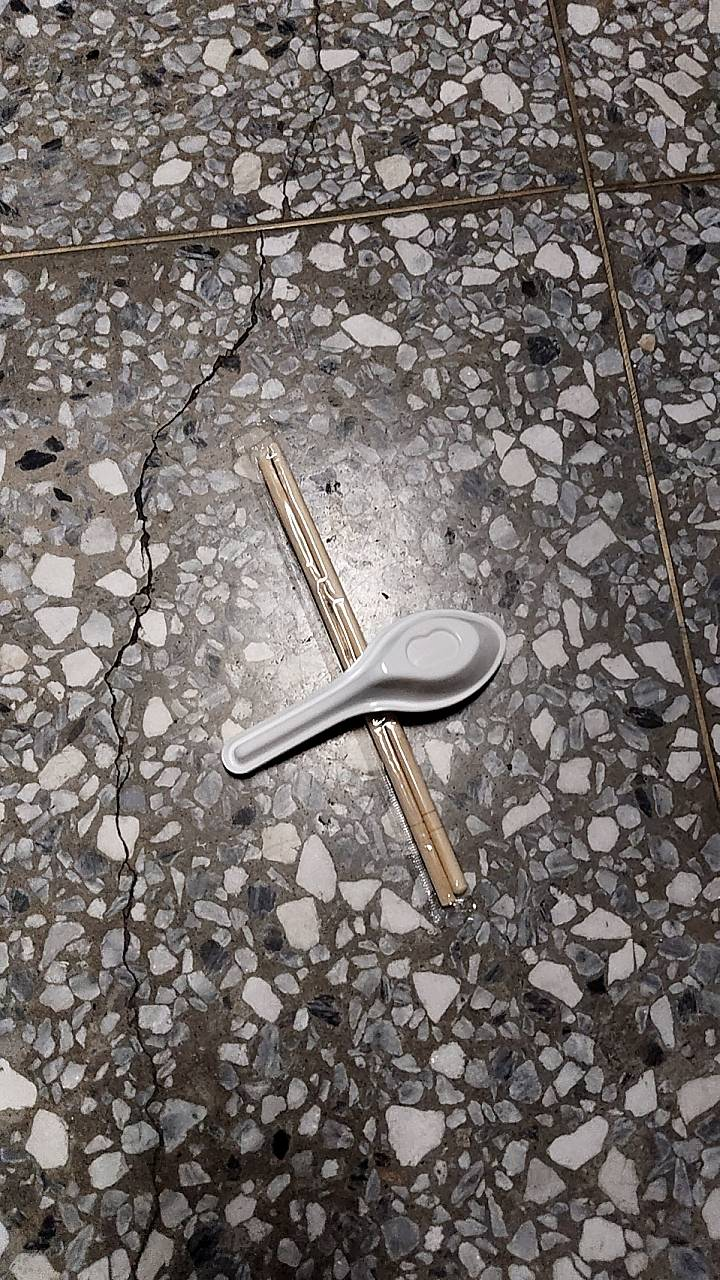General waste: (248, 420, 490, 922)
plastic: (207, 582, 535, 802)
